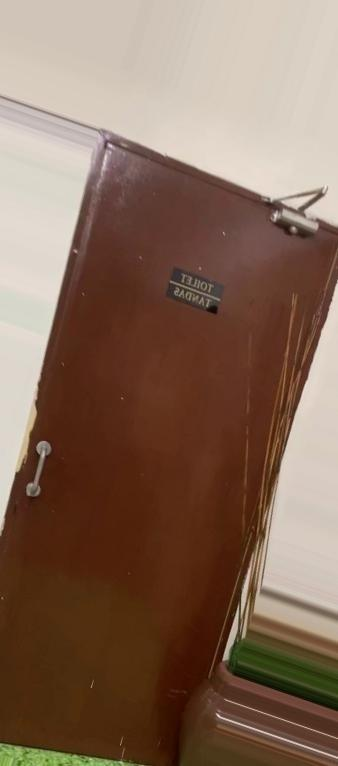door: (0, 127, 338, 766)
